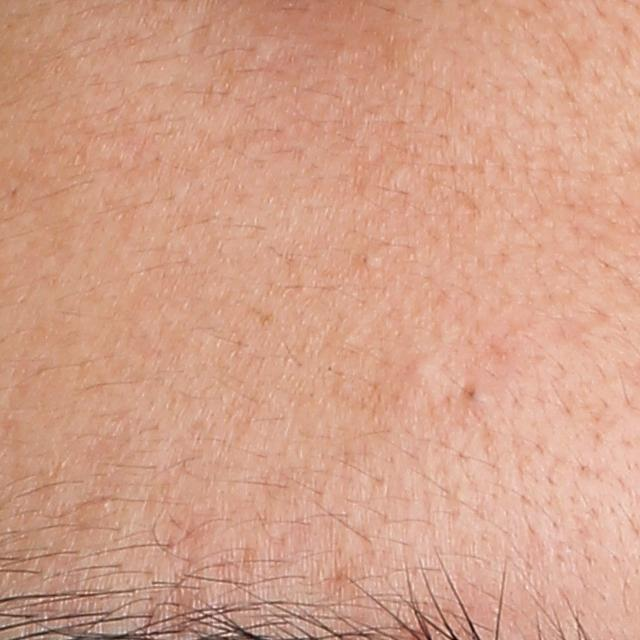comedo: (397, 355, 440, 394), (349, 248, 387, 274), (463, 381, 488, 407)
